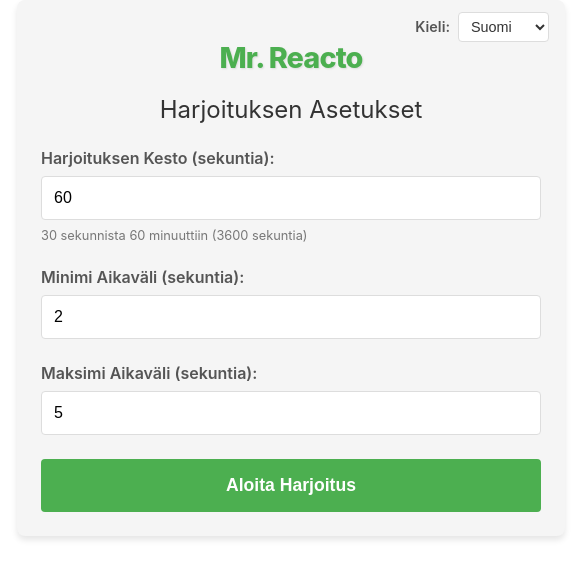
it: SessionConfig Component › validates session duration between 30 seconds and 60 minutes
// Test below minimum
Replace the text in the number field labelled "Harjoituksen Kesto (sekuntia):" with "29". click: (291, 198)
box: left=41, top=176, right=541, bottom=220
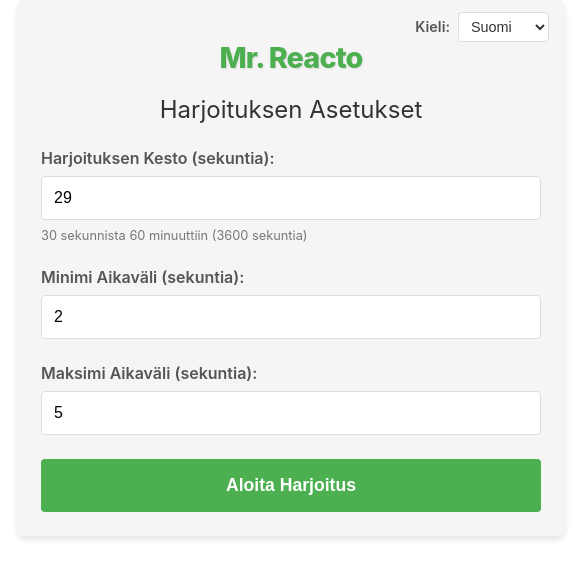
Leave the number field labelled "Harjoituksen Kesto (sekuntia):", box left=41, top=176, right=541, bottom=220
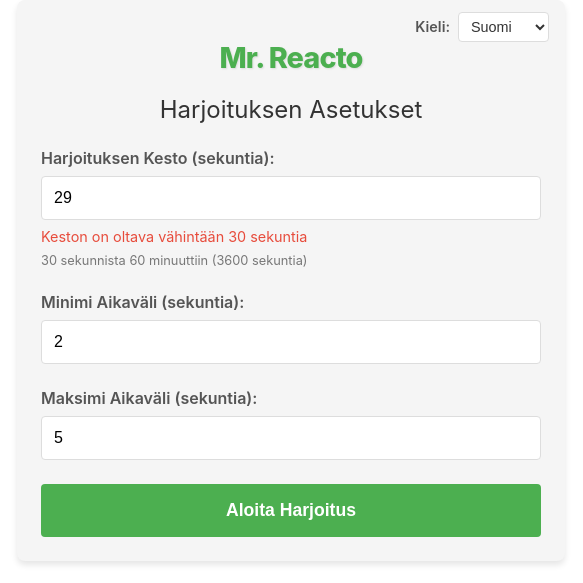
Check: the text "Keston on oltava vähintään 30 sekuntia" is shown, box left=41, top=228, right=307, bottom=245
// Test above maximum
Replace the text in the number field labelled "Harjoituksen Kesto (sekuntia):" with "3601". click: (291, 198)
box: left=41, top=176, right=541, bottom=220
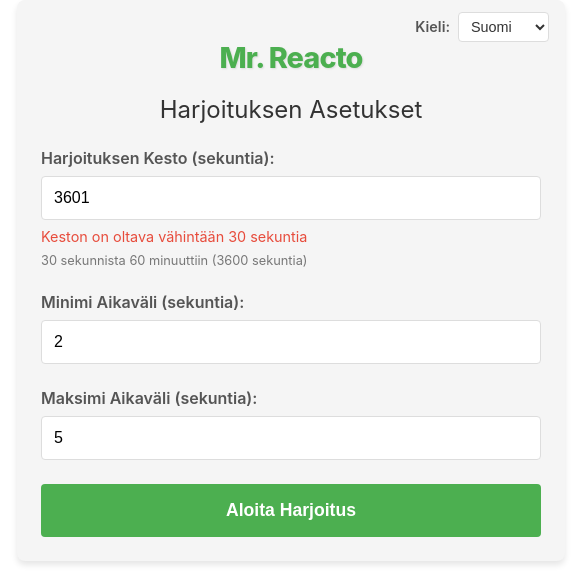
Leave the number field labelled "Harjoituksen Kesto (sekuntia):", box left=41, top=176, right=541, bottom=220
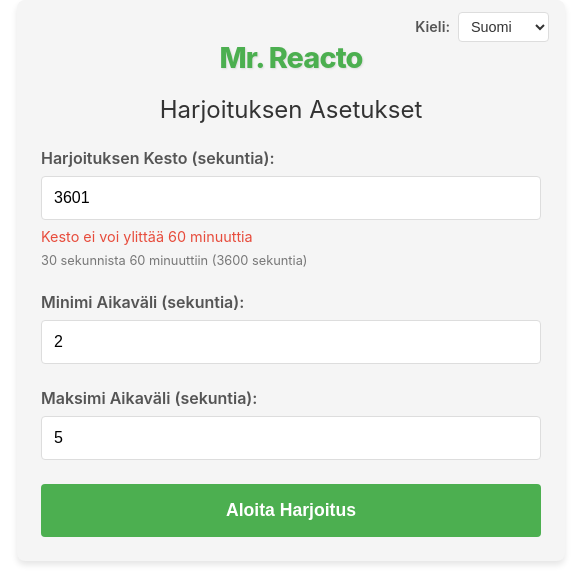
Check: the text "Kesto ei voi ylittää 60 minuuttia" is shown, box left=41, top=228, right=253, bottom=245
// Test valid values
Replace the text in the number field labelled "Harjoituksen Kesto (sekuntia):" with "300". click: (291, 198)
box: left=41, top=176, right=541, bottom=220
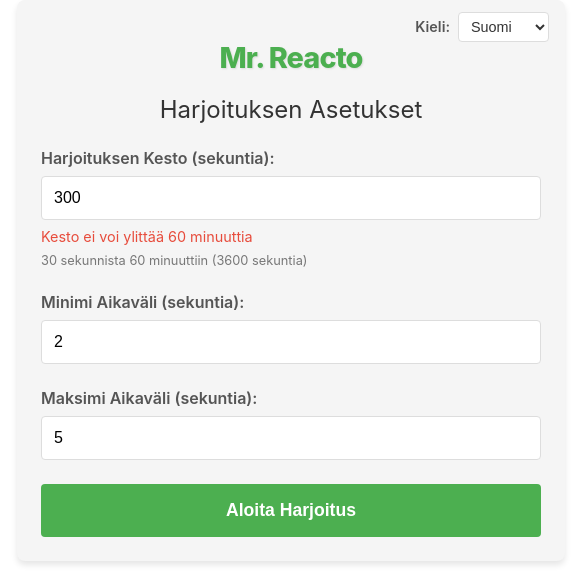
Leave the number field labelled "Harjoituksen Kesto (sekuntia):", box left=41, top=176, right=541, bottom=220
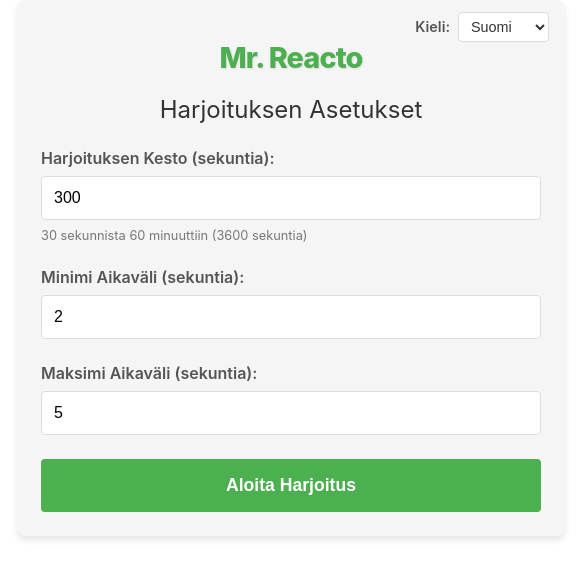
Check: the text "Keston on oltava vähintään 30 sekuntia" is not shown
Check: the text "Kesto ei voi ylittää 60 minuuttia" is gone
